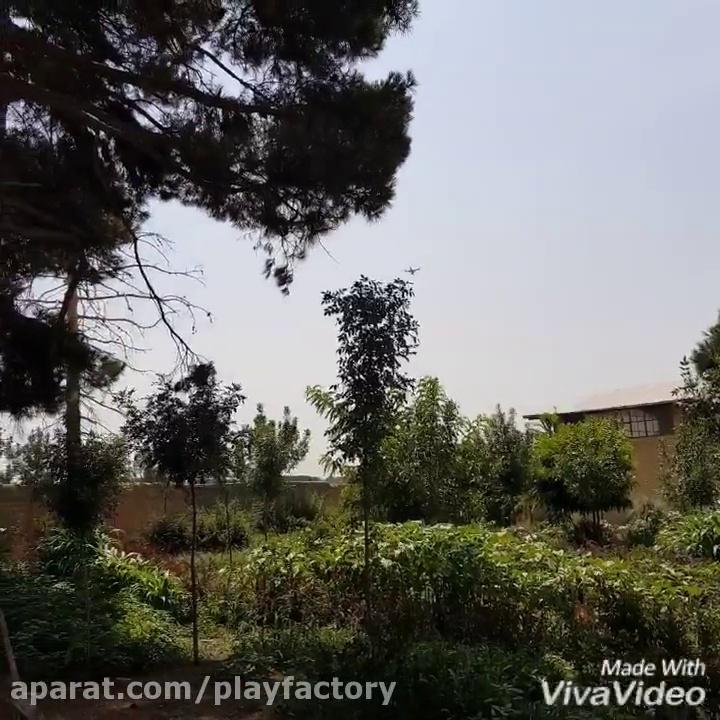drone: (402, 260, 422, 278)
